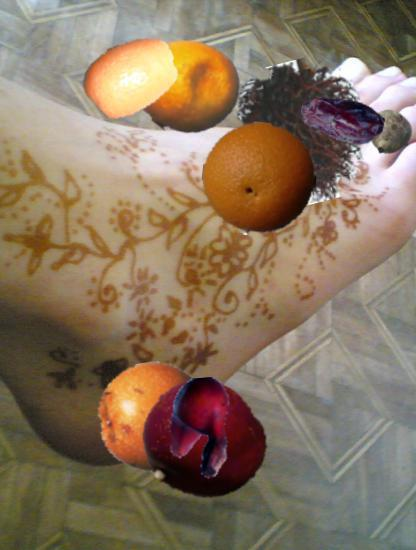Banana: (149, 378, 252, 481)
Beetroot: (360, 109, 415, 164)
Dates: (300, 78, 384, 162)
Granadilla: (97, 362, 212, 477)
Kumquats: (136, 36, 239, 139), (81, 29, 180, 128)
Nectarine: (141, 379, 267, 505)
Orange: (202, 122, 316, 236)
Rambutan: (235, 59, 380, 204)
